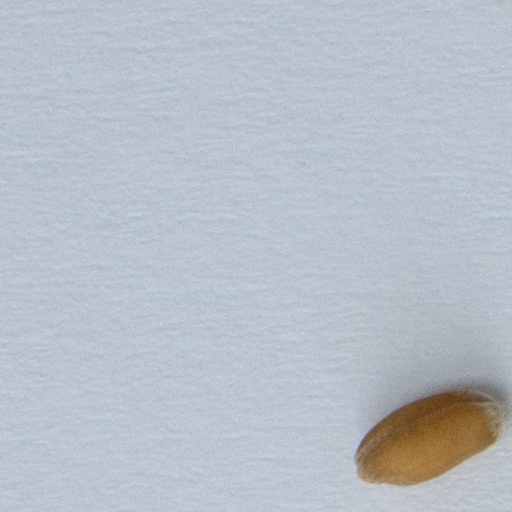Wheat-grain-poly: (353, 390, 502, 485)
